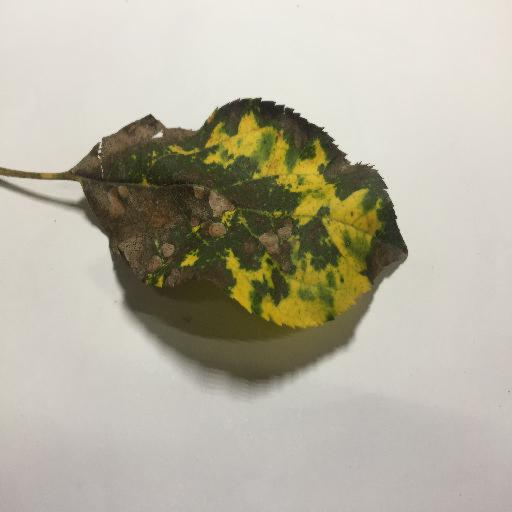Brown_Spot: (73, 85, 410, 343)
